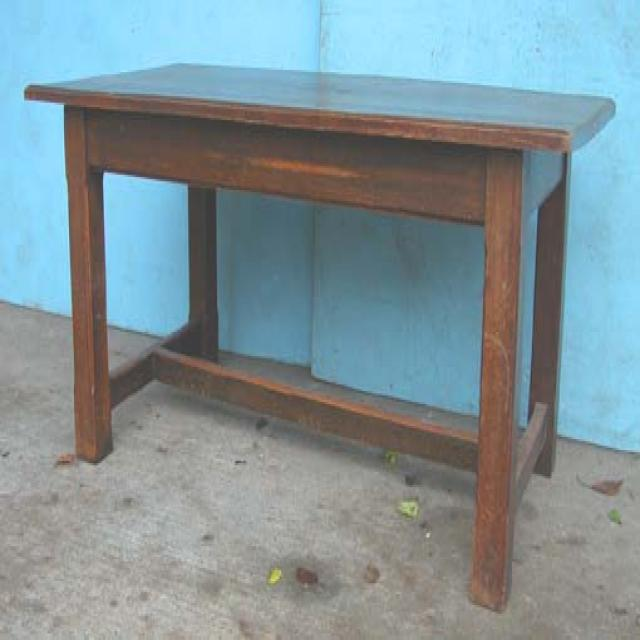table: (24, 58, 615, 614)
